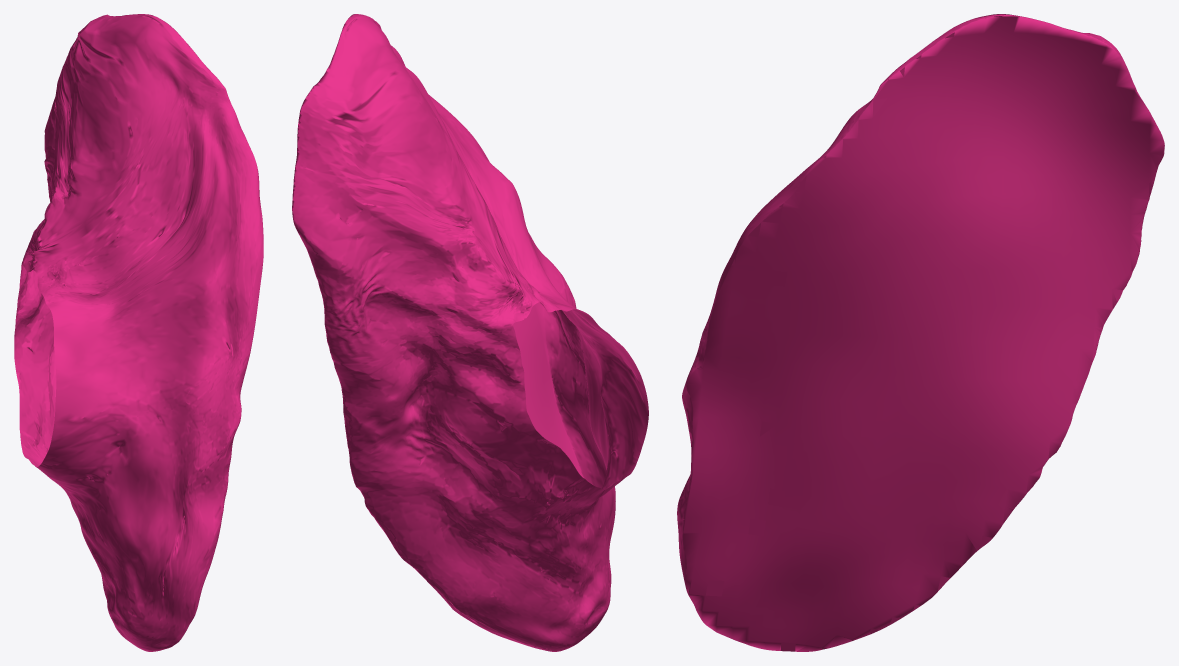
File: Caries_#9 Caries_OC.glb
3 renders of one model, left to right at view 1: azimuth 30°, elevation 25°; view 2: azimuth 150°, elevation 25°; view 3: azimuth 270°, elevation 25°, orthographic. The views are drawn at different scales.
Parts seen in each view (by area): view 1: 20250920T151612_annotation_label_5_composite_restoration_me.; view 2: 20250920T151612_annotation_label_5_composite_restoration_me.; view 3: 20250920T151612_annotation_label_5_composite_restoration_me..
Boxes of the visible parts, box(x1,y1,x2,y2) form: 20250920T151612_annotation_label_5_composite_restoration_me.: box(14, 14, 263, 651); 20250920T151612_annotation_label_5_composite_restoration_me.: box(292, 14, 648, 651); 20250920T151612_annotation_label_5_composite_restoration_me.: box(677, 14, 1164, 651).
Bounding box in the file's own units: 1.66 × 4.2 × 2.66.
